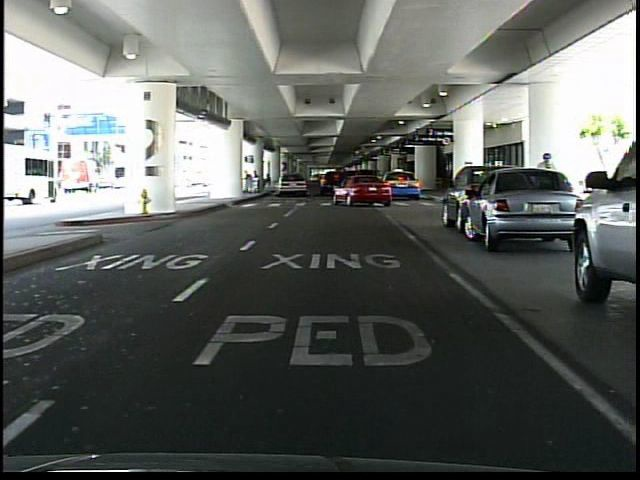person: (536, 150, 562, 238)
